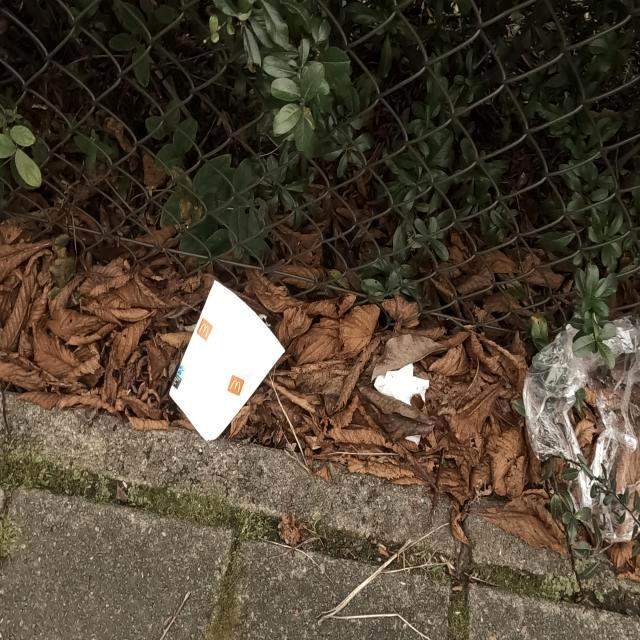Metal: (167, 275, 287, 445)
Paper: (372, 359, 430, 446)
